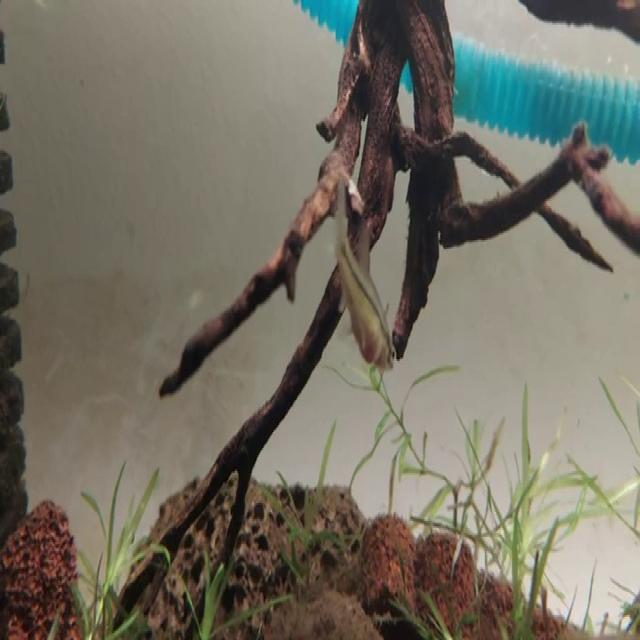Cakil Baligi: (337, 187, 401, 388)
